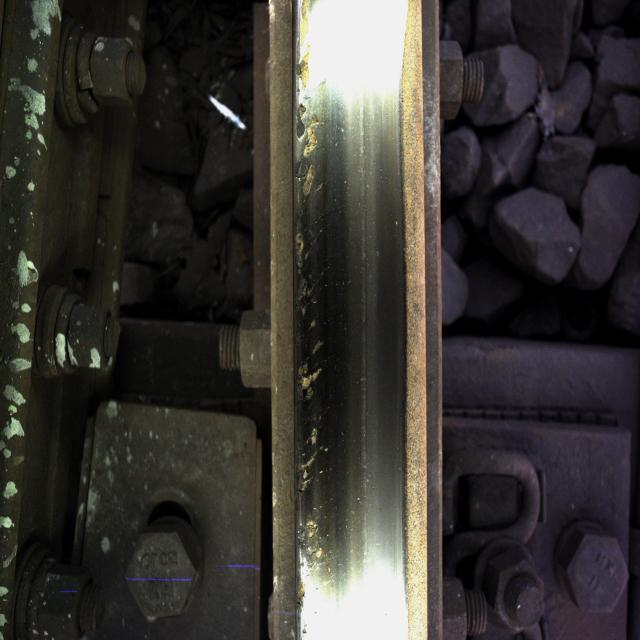crack: (291, 0, 362, 582)
